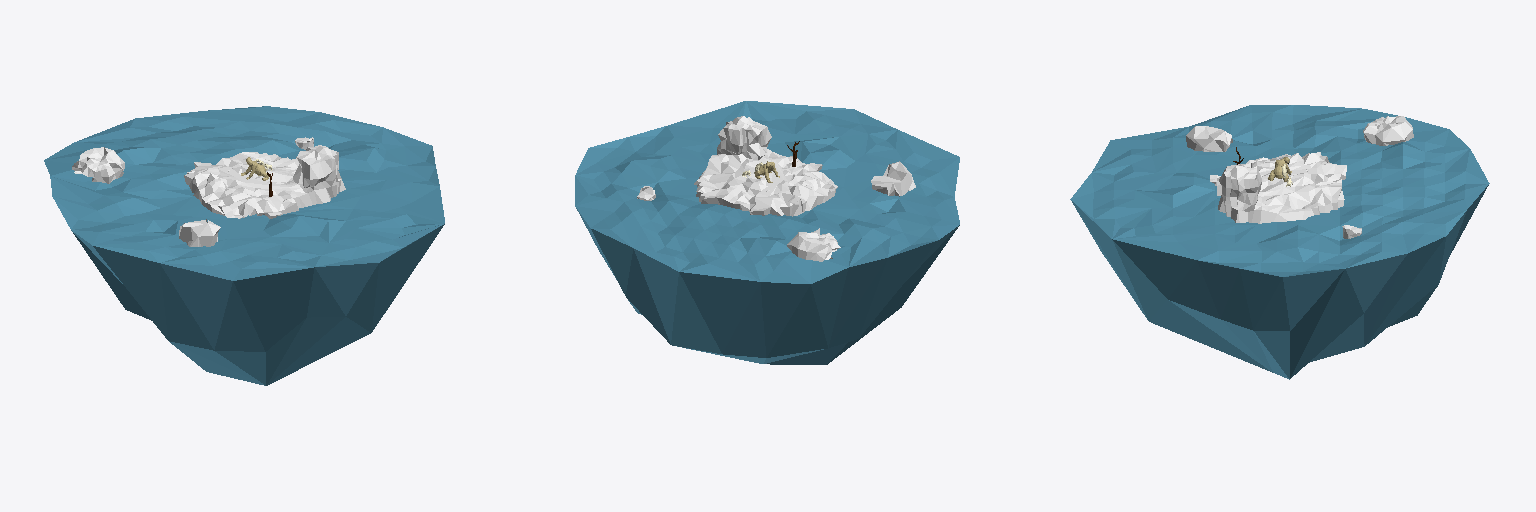
The model's file is bear.obj.
3 renders of one model, left to right at view 1: azimuth 30°, elevation 25°; view 2: azimuth 150°, elevation 25°; view 3: azimuth 270°, elevation 25°, orthographic.
Visible parts, largest first — view 1: bear:pPlane2 bear:polySurface1, bear:pPlane1 bear:polySurface1, bear:pCube8 bear:polySurface1, bear:pCube2 bear:polySurface1; view 2: bear:pPlane2 bear:polySurface1, bear:pPlane1 bear:polySurface1, bear:pCube8 bear:polySurface1, bear:pCube2 bear:polySurface1; view 3: bear:pPlane2 bear:polySurface1, bear:pPlane1 bear:polySurface1, bear:pCube8 bear:polySurface1, bear:pCube2 bear:polySurface1.
Boxes of the visible parts, x1,y1,x2,y2 form: bear:pPlane2 bear:polySurface1: [44, 106, 444, 385]; bear:pPlane1 bear:polySurface1: [184, 145, 345, 218]; bear:pCube8 bear:polySurface1: [72, 147, 124, 183]; bear:pCube2 bear:polySurface1: [179, 219, 220, 246]; bear:pPlane2 bear:polySurface1: [575, 101, 959, 364]; bear:pPlane1 bear:polySurface1: [694, 116, 837, 216]; bear:pCube8 bear:polySurface1: [787, 228, 840, 261]; bear:pCube2 bear:polySurface1: [871, 161, 915, 196]; bear:pPlane2 bear:polySurface1: [1070, 105, 1489, 379]; bear:pPlane1 bear:polySurface1: [1210, 152, 1346, 223]; bear:pCube8 bear:polySurface1: [1363, 116, 1413, 145]; bear:pCube2 bear:polySurface1: [1186, 126, 1232, 151].
Bounding box in the file's own units: 52.96 × 32.07 × 53.96.